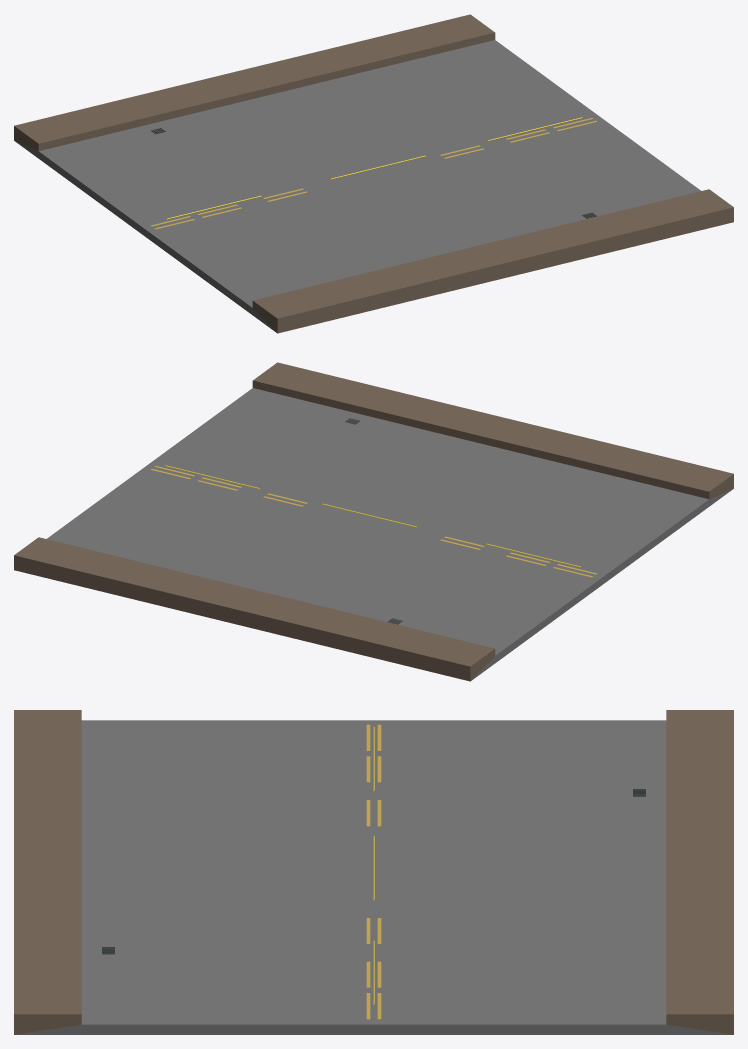
The picture shows the model from 3 angles, top to bottom: view 1: azimuth 30°, elevation 25°; view 2: azimuth 150°, elevation 25°; view 3: azimuth 270°, elevation 25°; orthographic projection. The views are drawn at different scales.
Parts seen in each view (by area): view 1: RD87F | archived geometry, Fitted street and landscape details; view 2: RD87F | archived geometry, Fitted street and landscape details; view 3: RD87F | archived geometry, Fitted street and landscape details.
Part boxes in pixels (x1=…): RD87F | archived geometry: x1=14, y1=14, x2=733, y2=333; Fitted street and landscape details: x1=151, y1=118, x2=596, y2=229; RD87F | archived geometry: x1=14, y1=362, x2=733, y2=681; Fitted street and landscape details: x1=151, y1=418, x2=596, y2=624; RD87F | archived geometry: x1=14, y1=710, x2=733, y2=1034; Fitted street and landscape details: x1=102, y1=724, x2=645, y2=1019.
Size of the model in its own units: 16 by 0.5 by 16.
